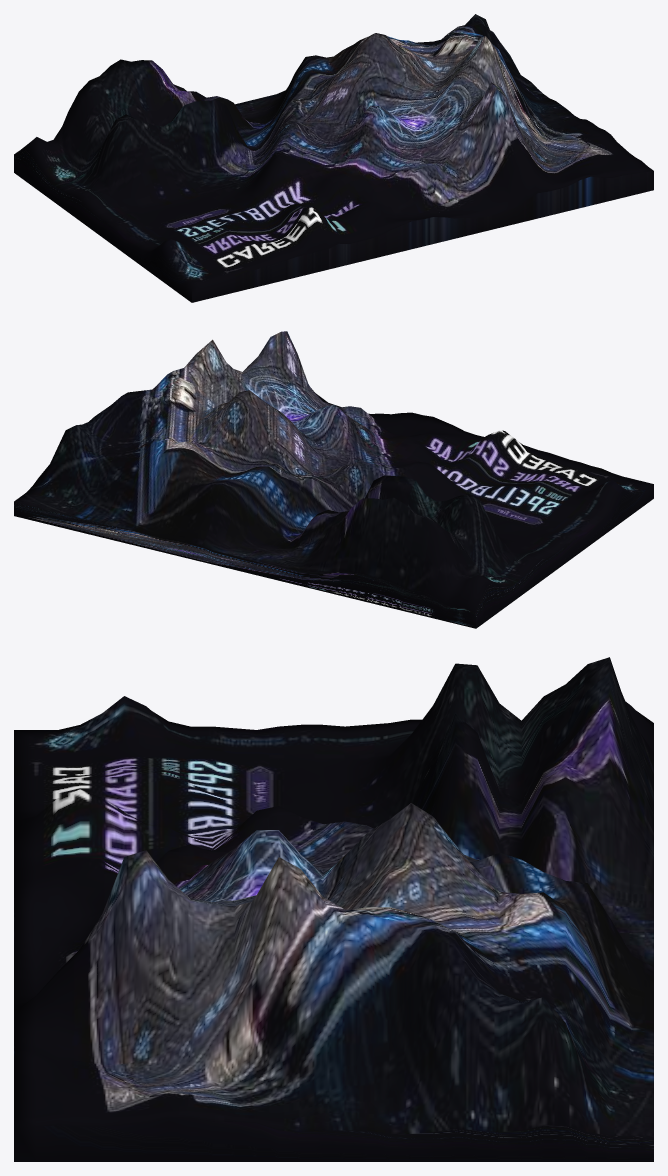
The model's file is CAREER_11_Tool_01_Spellbook.glb.
The picture shows the model from 3 angles, top to bottom: view 1: azimuth 30°, elevation 25°; view 2: azimuth 150°, elevation 25°; view 3: azimuth 270°, elevation 25°; orthographic projection. The views are drawn at different scales.
Visible parts, largest first — view 1: CAREER_11_Tool_01_Spellbook; view 2: CAREER_11_Tool_01_Spellbook; view 3: CAREER_11_Tool_01_Spellbook.
Boxes of the visible parts, bbox=[...] form: CAREER_11_Tool_01_Spellbook: bbox=[14, 14, 653, 302]; CAREER_11_Tool_01_Spellbook: bbox=[14, 331, 653, 628]; CAREER_11_Tool_01_Spellbook: bbox=[14, 657, 653, 1161].
Bounding box in the file's own units: 2 × 0.51 × 1.33.
Materials: 1 (1 with a texture image).
